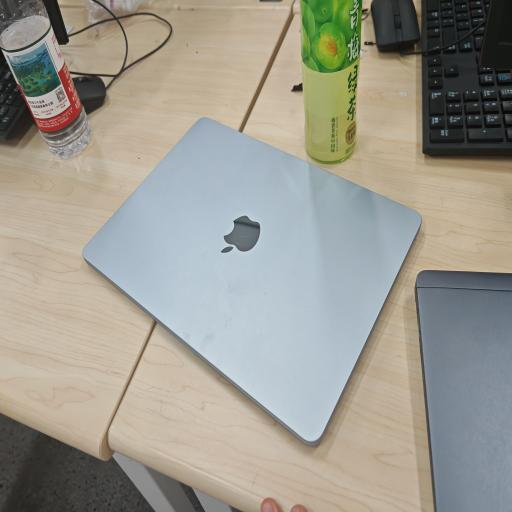laptop: (83, 119, 421, 445), (416, 270, 512, 512)
mouse: (371, 0, 420, 51), (73, 76, 106, 114)
